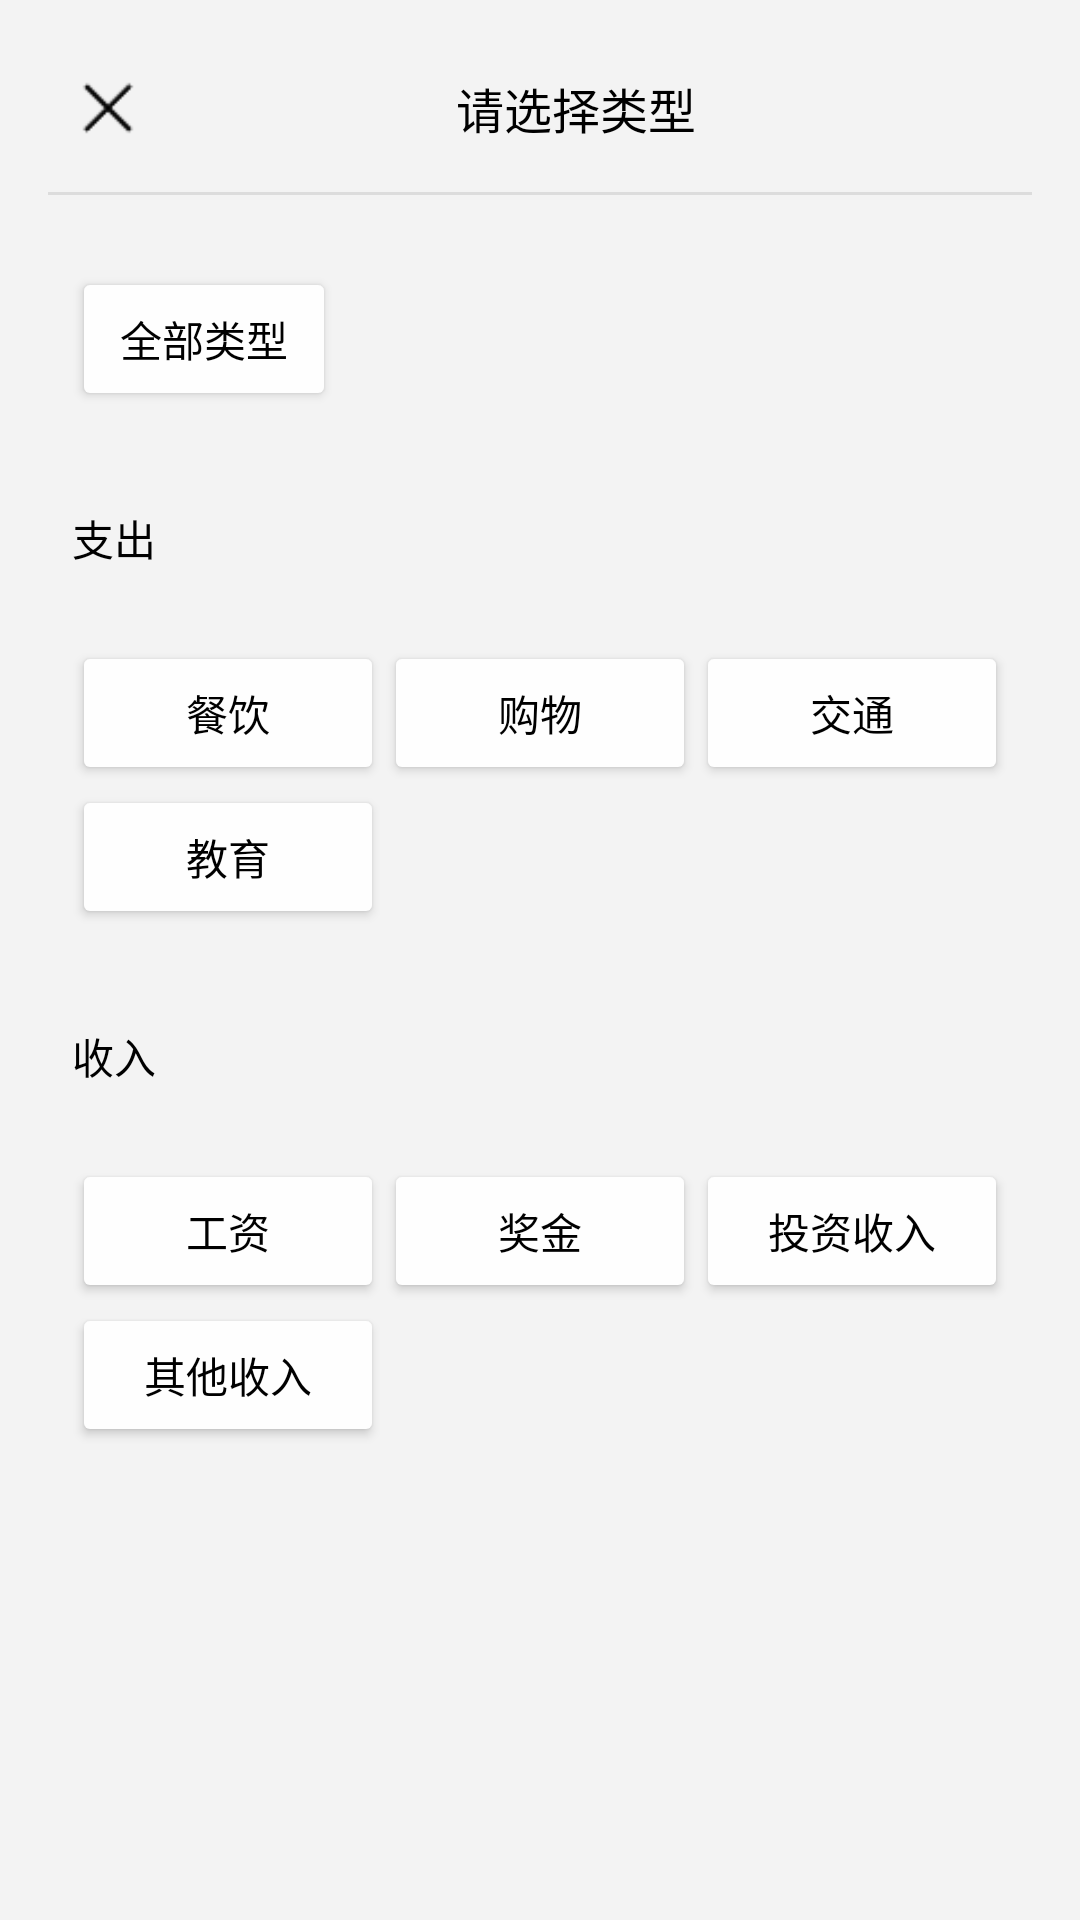

Named icons in this screenshot (1080px x 1920px) and their bounding boxes, (x1, y1, x2, y2):
close: (83, 83, 133, 133)
